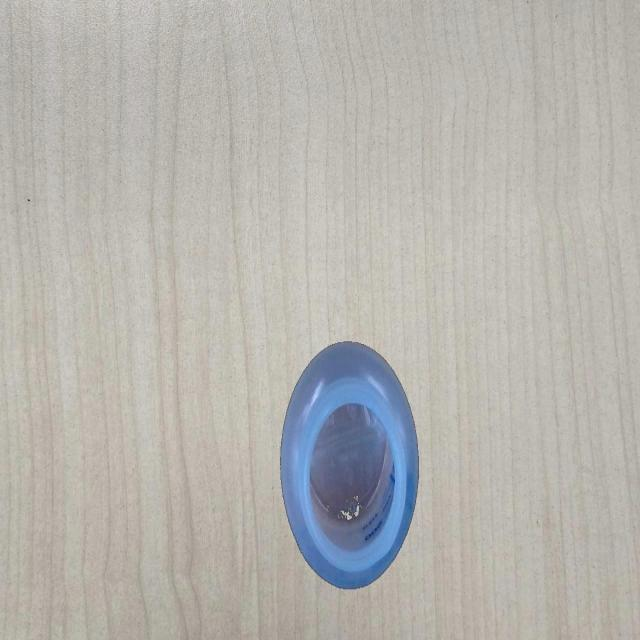bottle: (278, 336, 420, 590)
